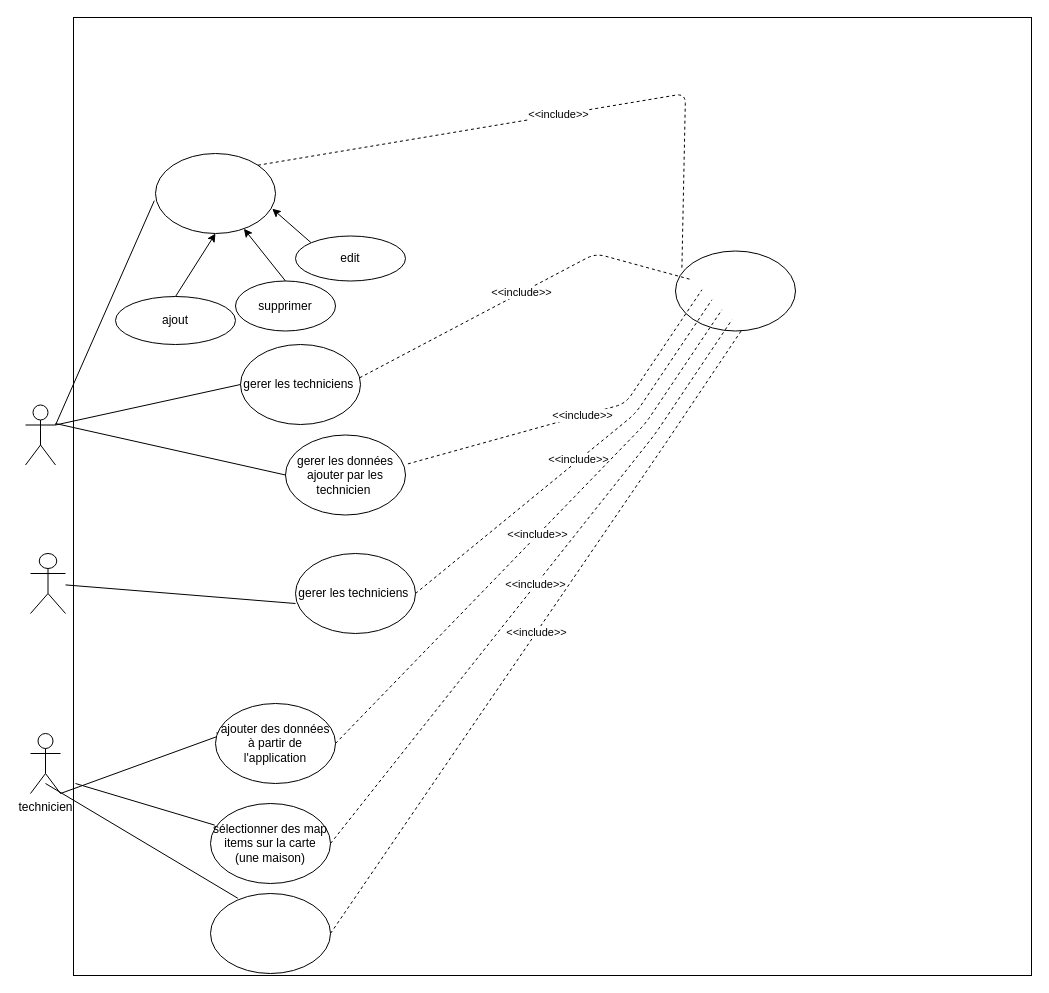
Image size: 1049x993. Some labels were removed from this diagram. Each missing label, with the box of its shape:
admin: (24, 404, 56, 465)
gerer les sous admins: (154, 152, 276, 234)
s'authentifier: (674, 250, 796, 331)
sous admin: (30, 552, 66, 614)
sélectionner une zone dans la carte: (210, 892, 330, 974)
